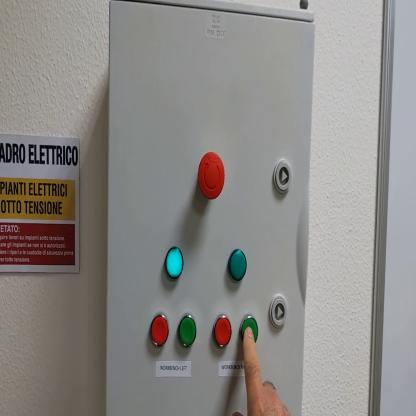hand: (243, 327, 287, 413)
left green button: (179, 314, 198, 348)
left red button: (151, 315, 169, 348)
right green button: (240, 316, 259, 346)
right red button: (214, 315, 233, 348)
